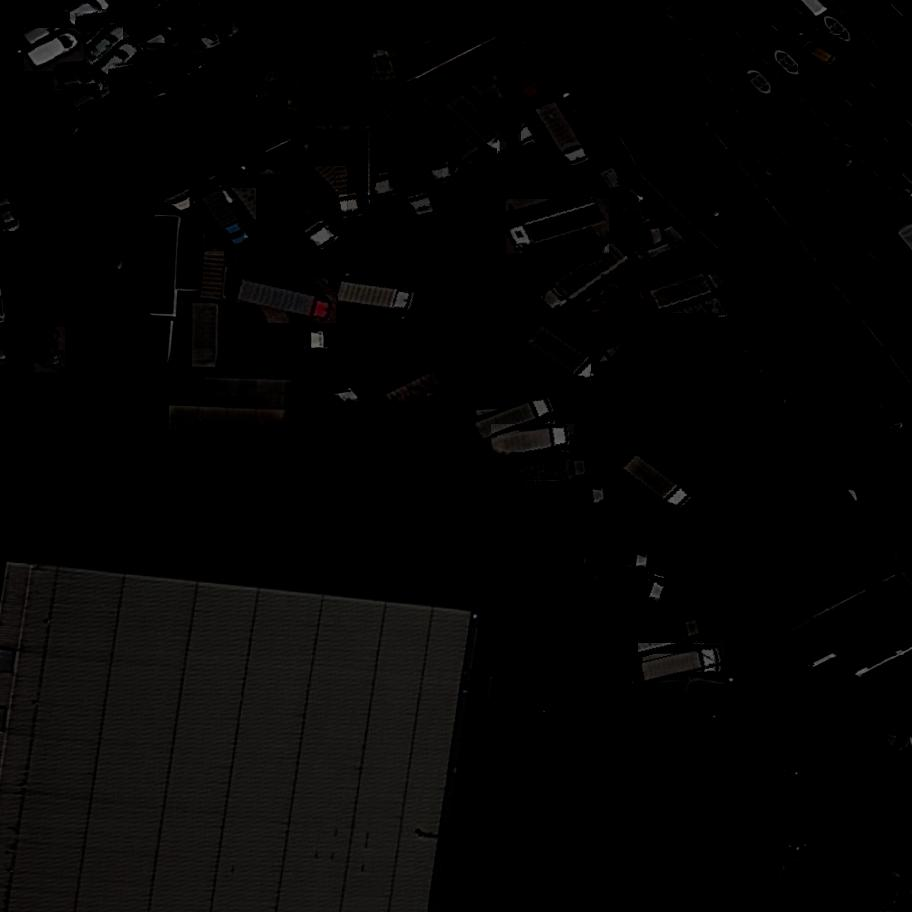large-vehicle: (250, 160, 348, 262), (403, 90, 500, 186), (317, 124, 419, 209), (370, 118, 444, 233), (536, 238, 636, 321), (225, 172, 308, 271), (524, 322, 609, 394), (507, 199, 610, 257), (620, 450, 701, 522), (311, 127, 368, 229), (474, 77, 543, 157), (446, 95, 521, 168), (532, 96, 594, 177), (474, 391, 563, 447), (586, 556, 676, 610), (593, 321, 673, 381), (236, 279, 337, 326), (400, 105, 452, 192), (645, 267, 731, 316), (198, 184, 256, 255), (661, 292, 751, 336), (638, 643, 725, 685), (488, 425, 576, 466), (525, 481, 616, 520), (628, 615, 710, 658), (511, 454, 598, 494), (335, 278, 419, 315), (499, 42, 543, 111), (571, 542, 657, 575)
small-vehicle: (25, 28, 85, 74), (94, 38, 145, 88), (220, 103, 272, 152), (123, 153, 170, 205), (204, 113, 250, 165), (242, 94, 289, 144), (86, 22, 134, 69), (163, 52, 213, 97), (196, 16, 249, 58), (65, 78, 119, 119), (259, 63, 300, 117), (391, 2, 440, 46), (21, 10, 71, 53), (118, 78, 170, 117), (79, 93, 125, 137), (798, 32, 846, 74), (40, 115, 86, 157), (124, 6, 172, 46), (813, 136, 860, 175), (98, 249, 148, 284), (101, 209, 155, 238), (0, 232, 34, 278), (684, 721, 743, 747), (35, 327, 68, 373), (137, 28, 188, 57), (150, 146, 182, 192), (23, 214, 52, 264), (616, 598, 667, 624), (411, 24, 452, 56), (184, 8, 232, 35), (75, 13, 123, 40), (108, 69, 155, 94), (5, 359, 32, 402), (55, 68, 103, 92), (0, 194, 26, 238), (97, 316, 145, 338), (101, 279, 150, 300), (849, 859, 877, 894), (371, 48, 396, 86), (63, 367, 86, 406)
